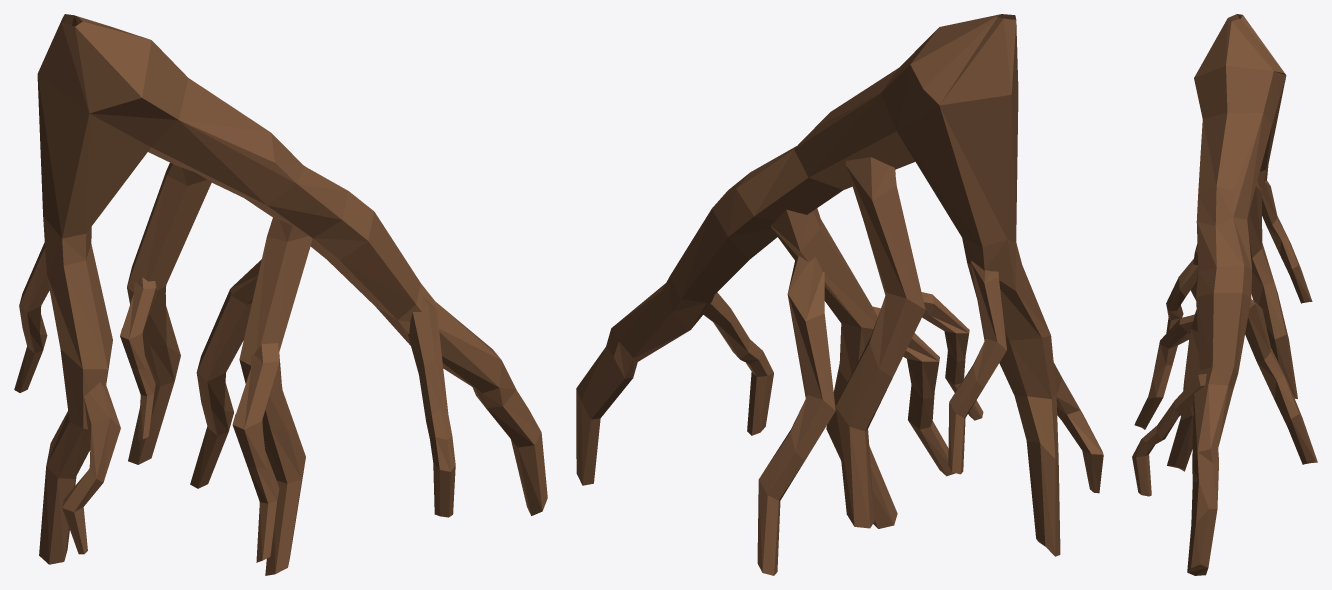
File: ROOTS.fbx
3 views of the same model, side by side, from view 1: azimuth 30°, elevation 25°; view 2: azimuth 150°, elevation 25°; view 3: azimuth 270°, elevation 25° (orthographic). The views are drawn at different scales.
Visible parts, largest first — view 1: roots1; view 2: roots1; view 3: roots1.
Boxes of the visible parts, x1,y1,x2,y2 form: roots1: (14,14,547,575); roots1: (576,14,1103,575); roots1: (1132,14,1317,575).
Size of the model in its own units: 19.92 by 22.37 by 9.15.
